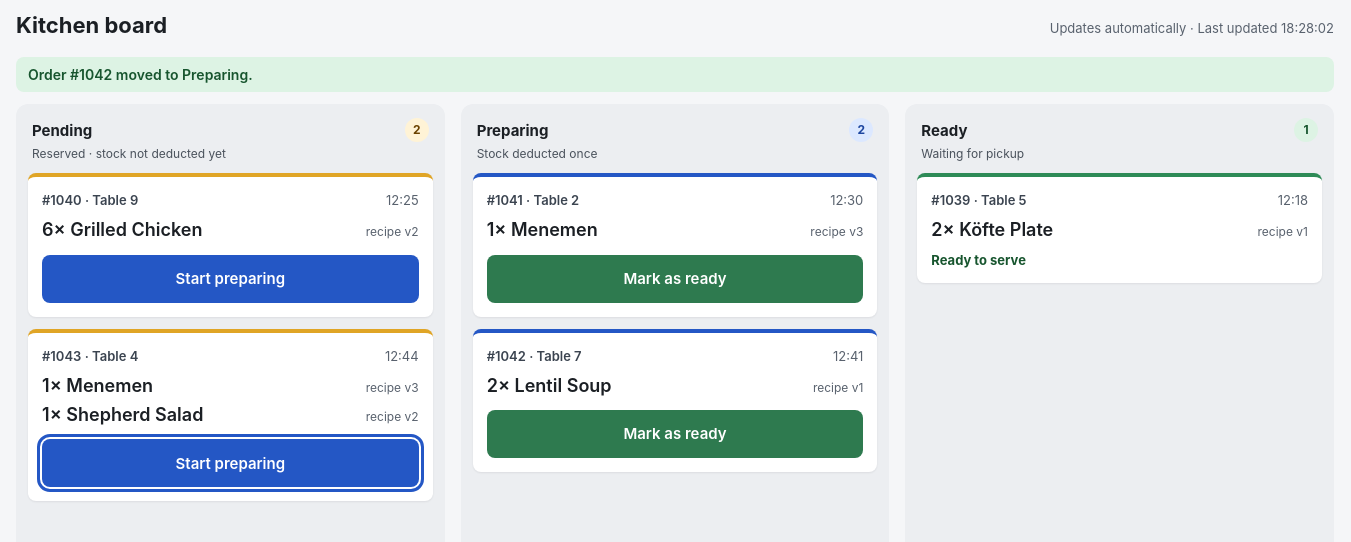
Test case: KitchenBoardPage status change feedback › clears the previous message when the next change starts and a conflict follows
This screenshot has width=1351, height=542.
Earlier steps of the test are not shown.
Expected: the text "Order #1042 moved to Preparing." is shown, [16, 57, 1334, 92]
Click the button with aria-label "Start preparing order #1040" at point(230, 279), box [42, 255, 419, 303]
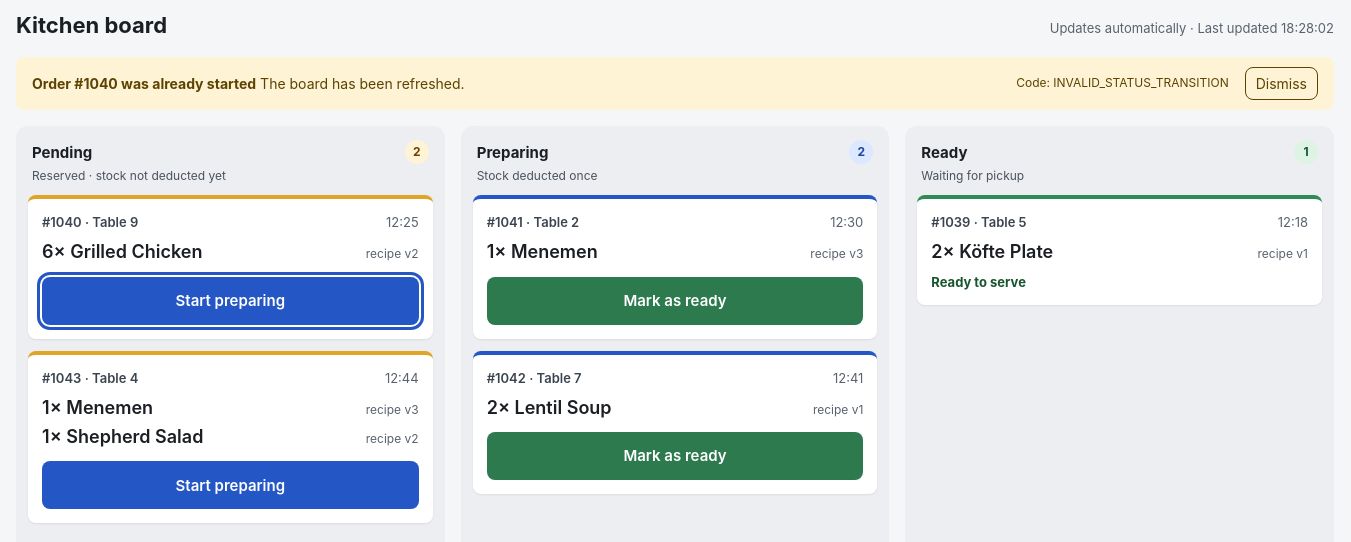
Expected: the message shows "Order #1040 was already started", [32, 75, 256, 92]
